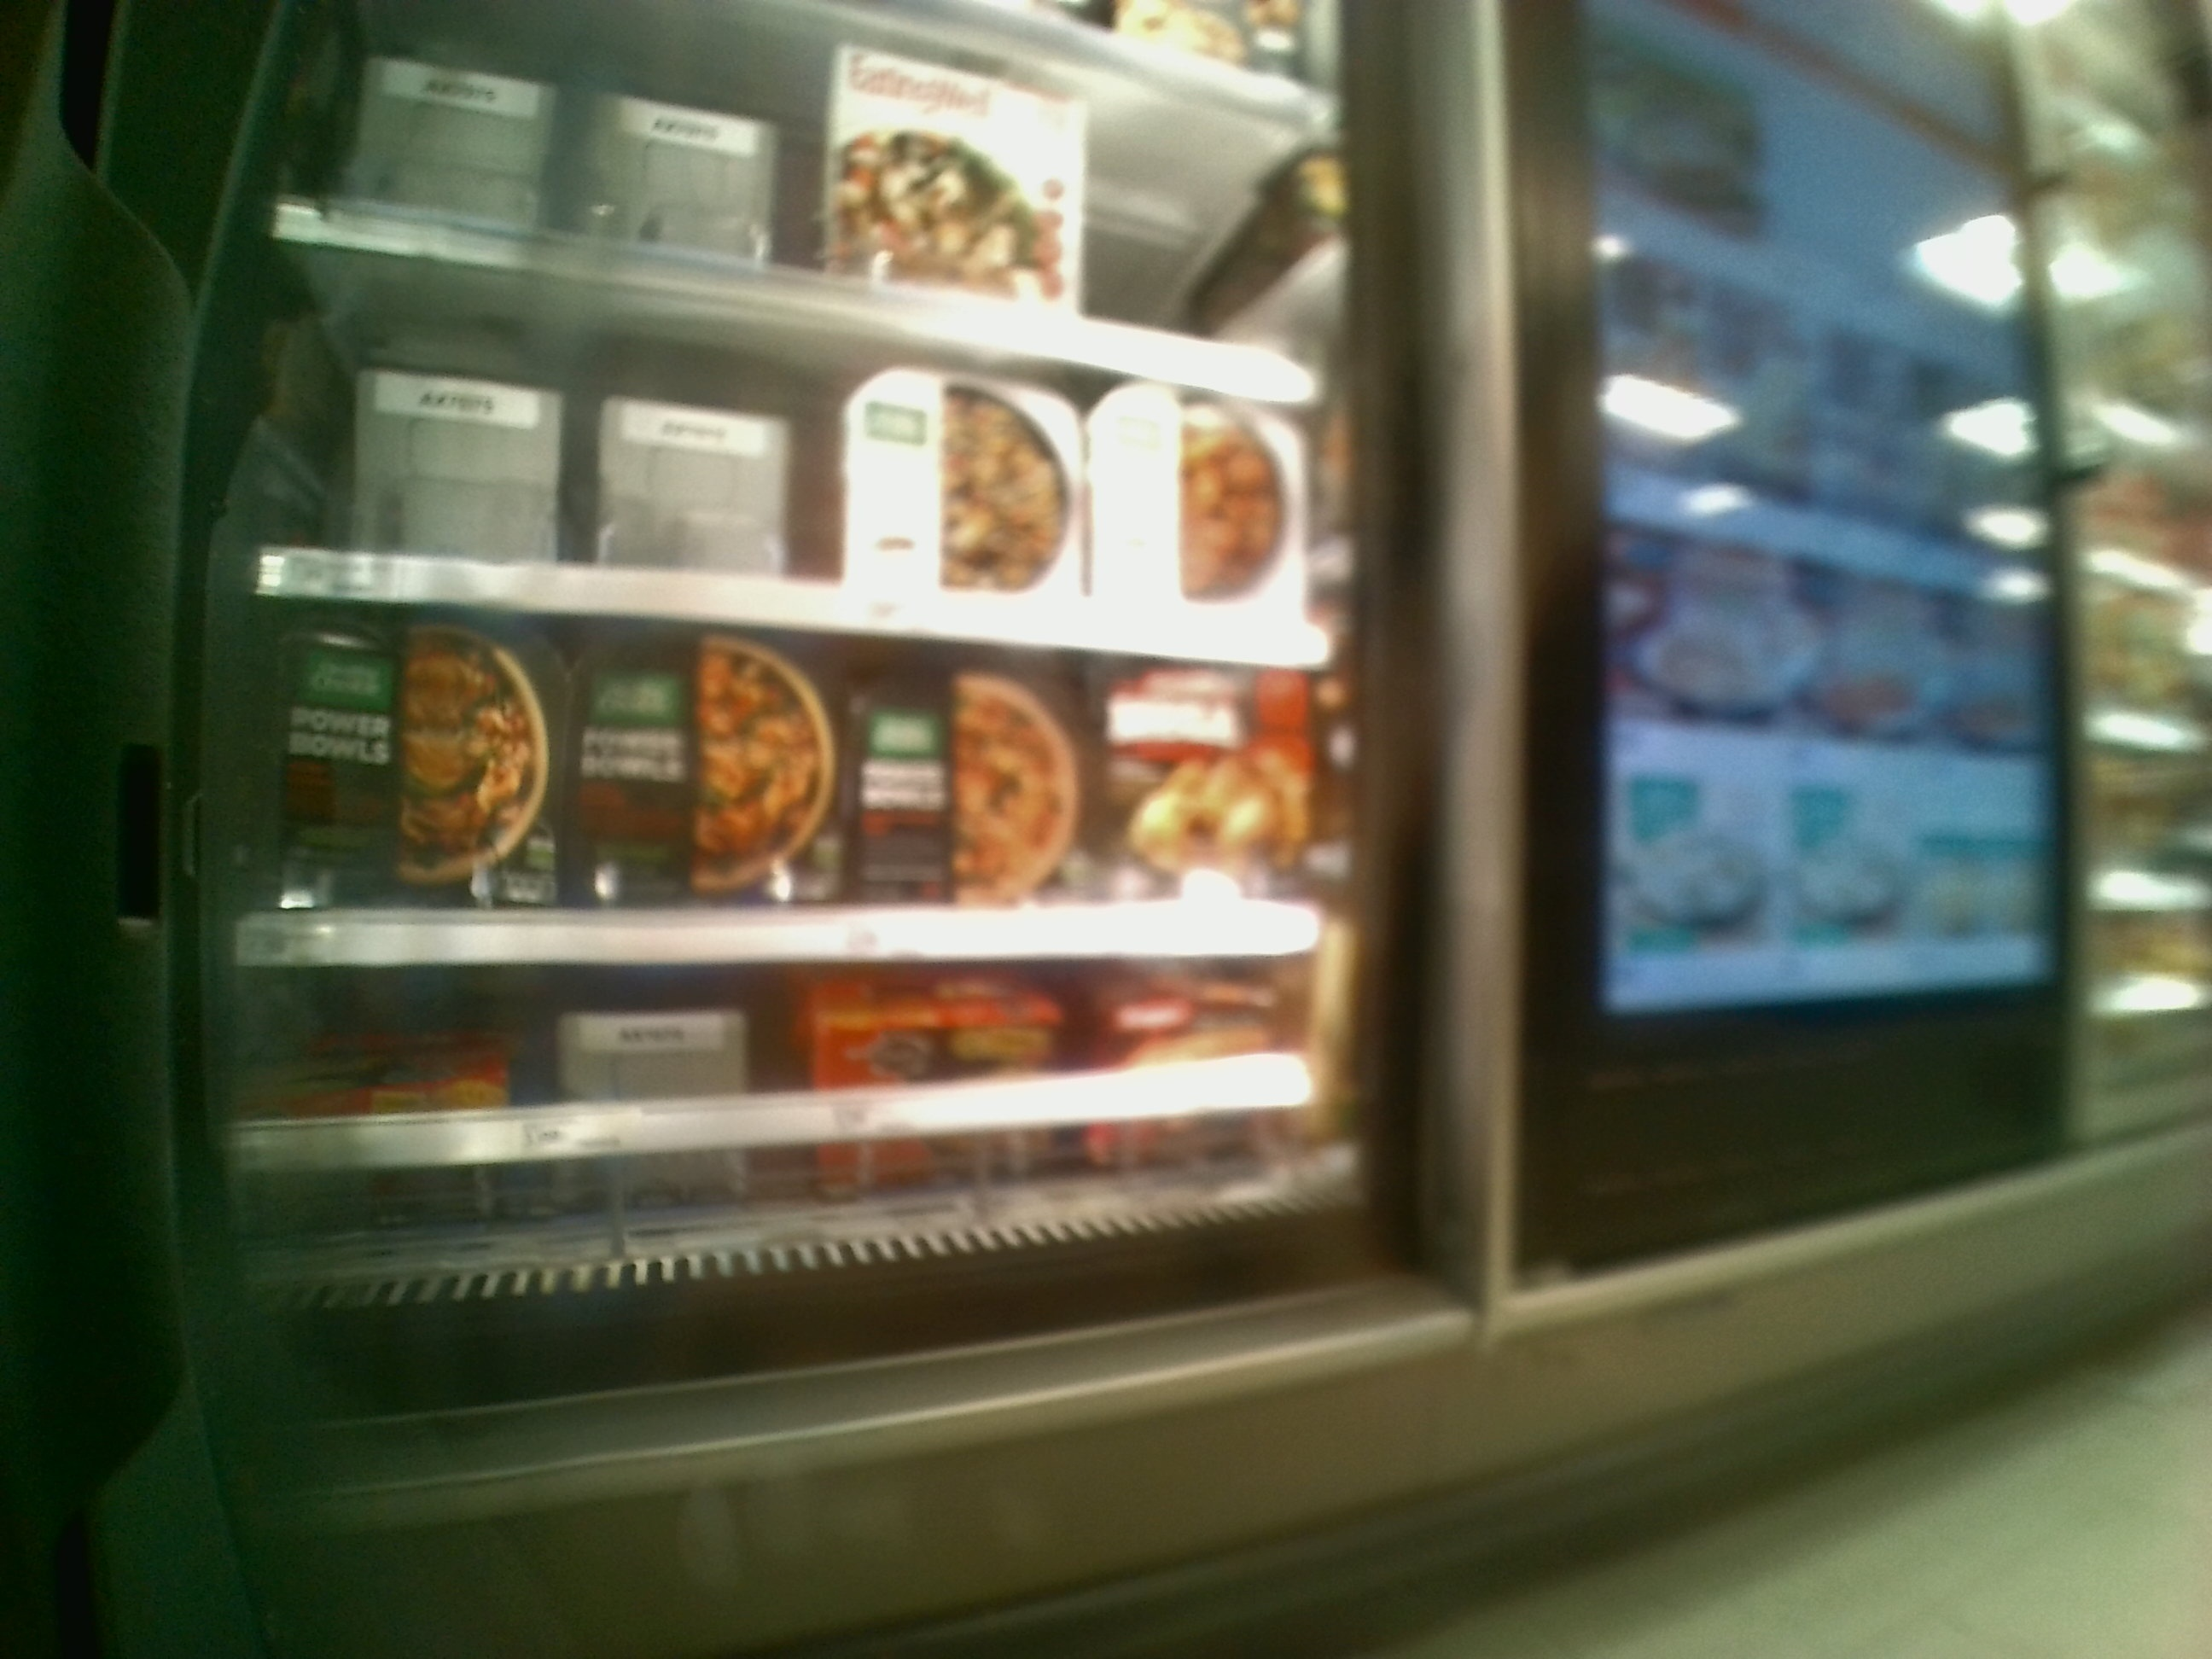Shelf: (244, 586, 1339, 964), (209, 978, 1385, 1305)
